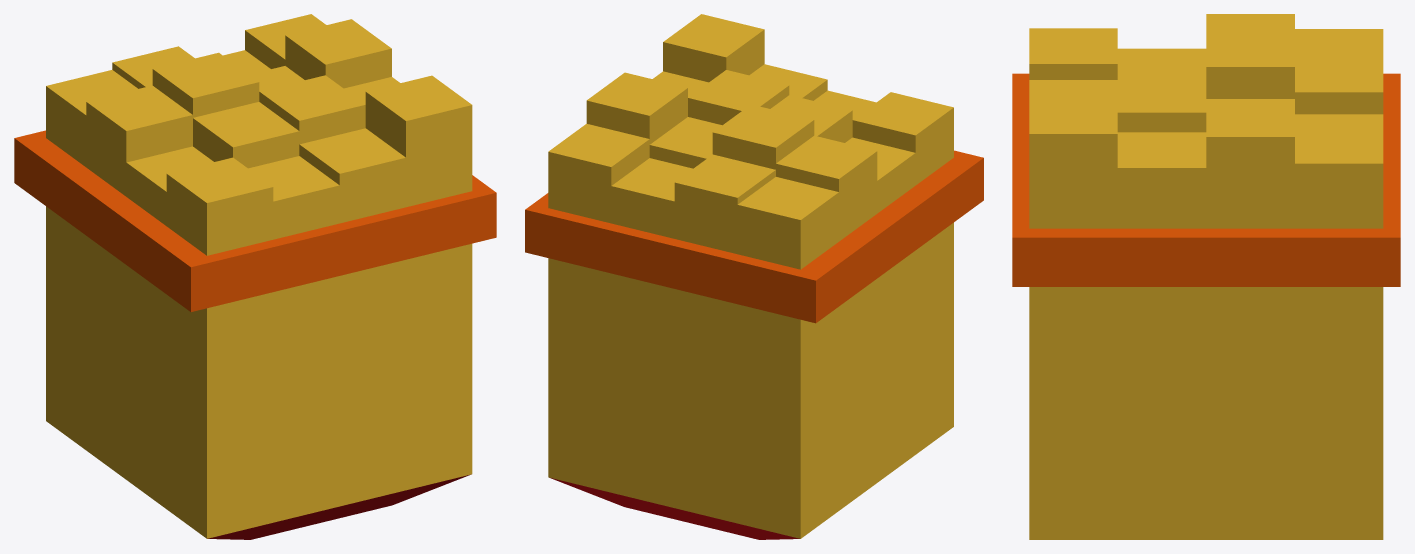
File: fbx_head_80s.fbx
3 renders of one model, left to right at view 1: azimuth 30°, elevation 25°; view 2: azimuth 150°, elevation 25°; view 3: azimuth 270°, elevation 25°, orthographic. The views are drawn at different scales.
Parts seen in each view (by area): view 1: sm_head_80s; view 2: sm_head_80s; view 3: sm_head_80s.
Boxes of the visible parts, <box> form: sm_head_80s: <box>14,14,496,539</box>; sm_head_80s: <box>525,14,983,539</box>; sm_head_80s: <box>1012,14,1400,539</box>.
Size of the model in its own units: 30.62 by 38.15 by 30.62.
